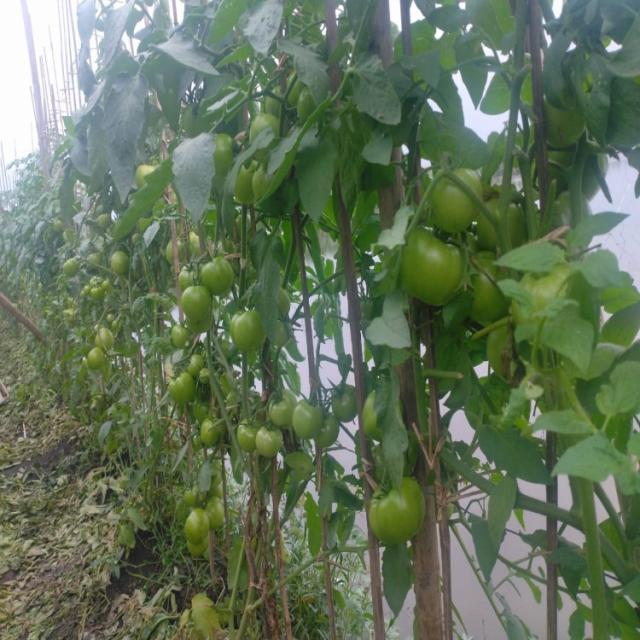tomato: (393, 224, 468, 312), (414, 162, 488, 237), (348, 471, 427, 538), (462, 254, 512, 330), (220, 311, 269, 364), (172, 285, 222, 330), (293, 398, 342, 443), (326, 379, 366, 432), (199, 252, 237, 303), (177, 589, 222, 631), (259, 386, 299, 432), (251, 420, 285, 468), (180, 508, 216, 550), (238, 157, 274, 199), (194, 413, 230, 449), (250, 114, 287, 148), (107, 248, 141, 284), (88, 273, 121, 308), (95, 330, 125, 357), (172, 374, 194, 401), (83, 348, 107, 366)
